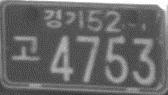2: (105, 9, 121, 33)
3: (132, 36, 156, 86)
4: (48, 34, 73, 82)
5: (103, 35, 128, 83), (87, 9, 103, 31)
7: (75, 34, 100, 83)
경기_O: (43, 8, 83, 29)
고: (10, 34, 40, 62)
